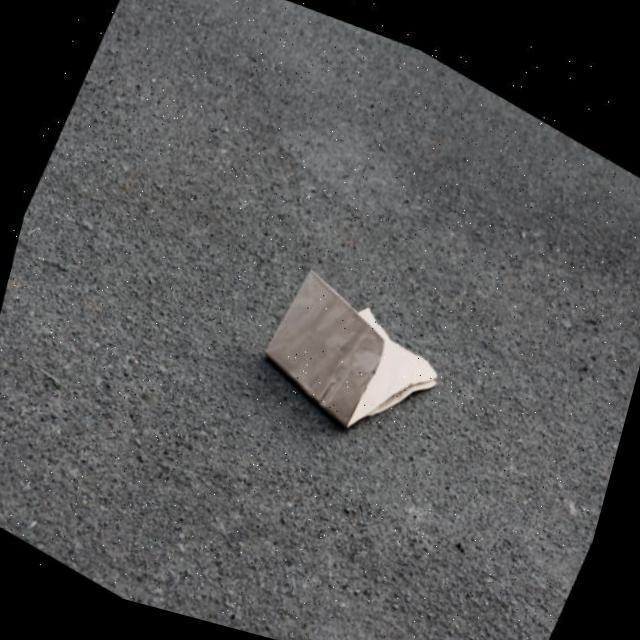Paper_Bag: (239, 249, 466, 459)
